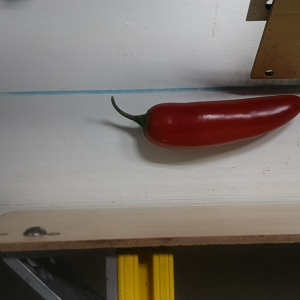Cut Point: (133, 103, 164, 148)
